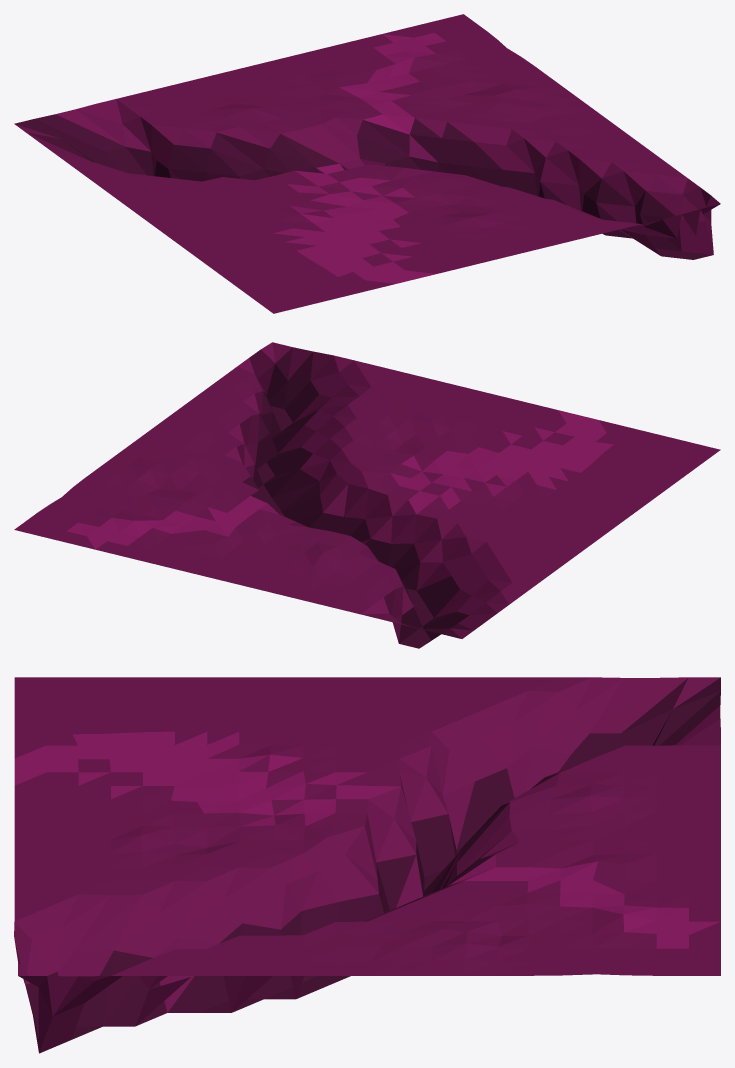
Rendered from eerie.fbx.
3 views of the same model, one above another, from view 1: azimuth 30°, elevation 25°; view 2: azimuth 150°, elevation 25°; view 3: azimuth 270°, elevation 25° (orthographic). The views are drawn at different scales.
Visible parts, largest first — view 1: Plane; view 2: Plane; view 3: Plane.
Boxes of the visible parts, box(x1,y1,x2,y2) form: Plane: box(14, 14, 720, 313); Plane: box(14, 342, 720, 648); Plane: box(14, 677, 720, 1053).
Bounding box in the file's own units: 20085 × 2643 × 20014.
